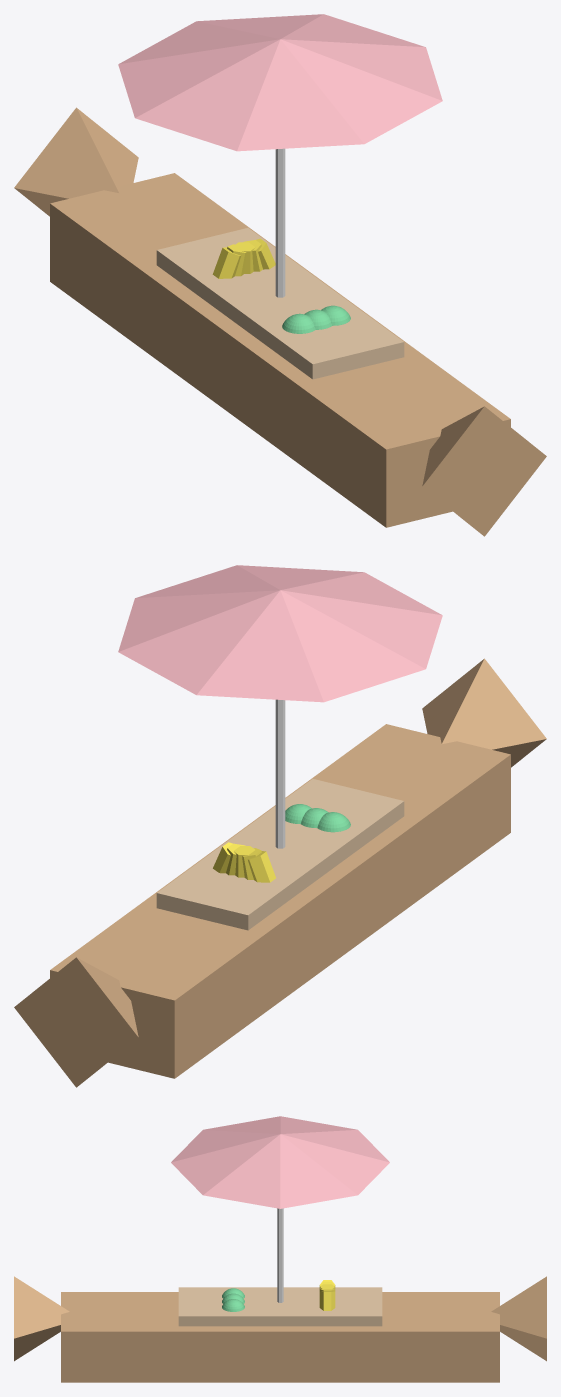
File: market_canoe.glb
3 renders of one model, top to bottom at view 1: azimuth 30°, elevation 25°; view 2: azimuth 150°, elevation 25°; view 3: azimuth 270°, elevation 25°, orthographic. The views are drawn at different scales.
Parts seen in each view (by area): view 1: Canoe_Hull, Canoe_Umbrella, Canoe_Stern, Canoe_Crate2, Canoe_Bow, Canoe_Crate1, Canoe_Pole; view 2: Canoe_Hull, Canoe_Umbrella, Canoe_Bow, Canoe_Crate1, Canoe_Stern, Canoe_Crate2, Canoe_Pole; view 3: Canoe_Hull, Canoe_Umbrella, Canoe_Crate1, Canoe_Crate2, Canoe_Bow, Canoe_Stern, Canoe_Pole.
Part boxes in pixels (bbox=[...]): Canoe_Hull: bbox=[50, 173, 510, 527]; Canoe_Umbrella: bbox=[118, 14, 442, 151]; Canoe_Stern: bbox=[422, 406, 546, 536]; Canoe_Crate2: bbox=[228, 280, 404, 379]; Canoe_Bow: bbox=[14, 107, 138, 216]; Canoe_Crate1: bbox=[156, 228, 319, 317]; Canoe_Pole: bbox=[275, 148, 285, 297]; Canoe_Hull: bbox=[50, 724, 510, 1078]; Canoe_Umbrella: bbox=[118, 565, 442, 702]; Canoe_Bow: bbox=[14, 957, 138, 1087]; Canoe_Crate1: bbox=[156, 831, 320, 930]; Canoe_Stern: bbox=[422, 658, 546, 767]; Canoe_Crate2: bbox=[241, 779, 404, 877]; Canoe_Pole: bbox=[275, 699, 285, 848]; Canoe_Hull: bbox=[61, 1292, 499, 1382]; Canoe_Umbrella: bbox=[171, 1116, 389, 1208]; Canoe_Crate1: bbox=[272, 1287, 382, 1326]; Canoe_Crate2: bbox=[178, 1287, 288, 1326]; Canoe_Bow: bbox=[491, 1276, 546, 1361]; Canoe_Stern: bbox=[14, 1276, 69, 1361]; Canoe_Pole: bbox=[277, 1208, 283, 1302].
Size of the model in its own units: 1.4 by 1.61 by 3.4.
